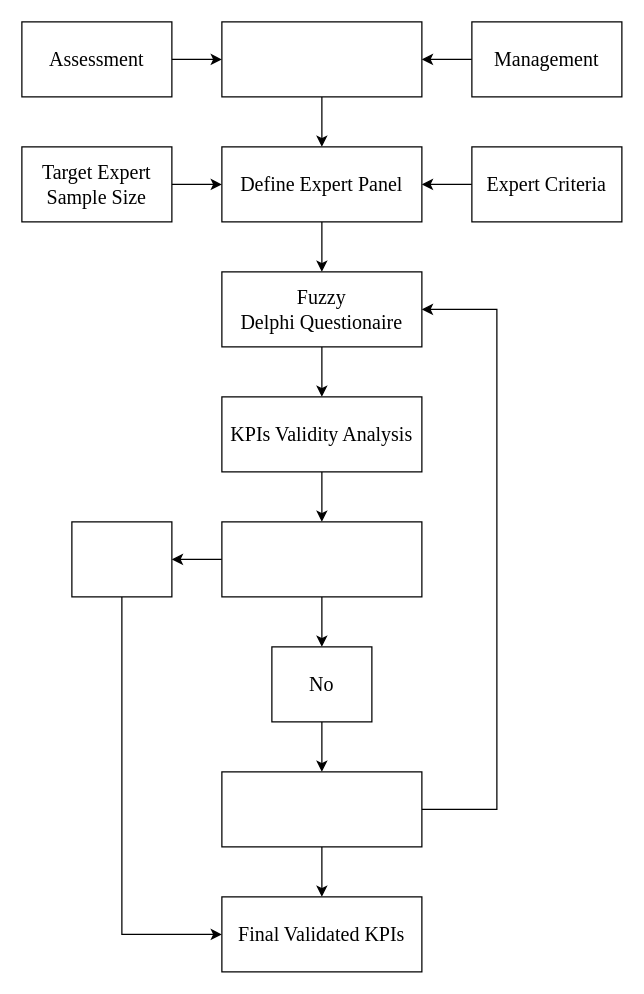
Image size: 644x994. Some labels were removed from this diagram. The centre of each missing label's shape, as x and y in pixels:
"Define Initial KPIs" belongs at (x=321, y=59).
"KPIs Adjustment" belongs at (x=321, y=809).
"KPIs Validated?" belongs at (x=321, y=559).
"Yes" belongs at (x=121, y=559).
